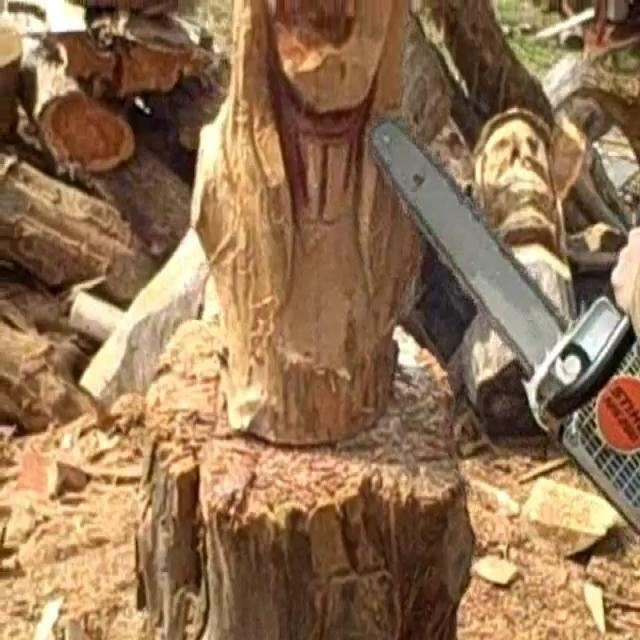Chainsaw: (347, 82, 640, 545)
